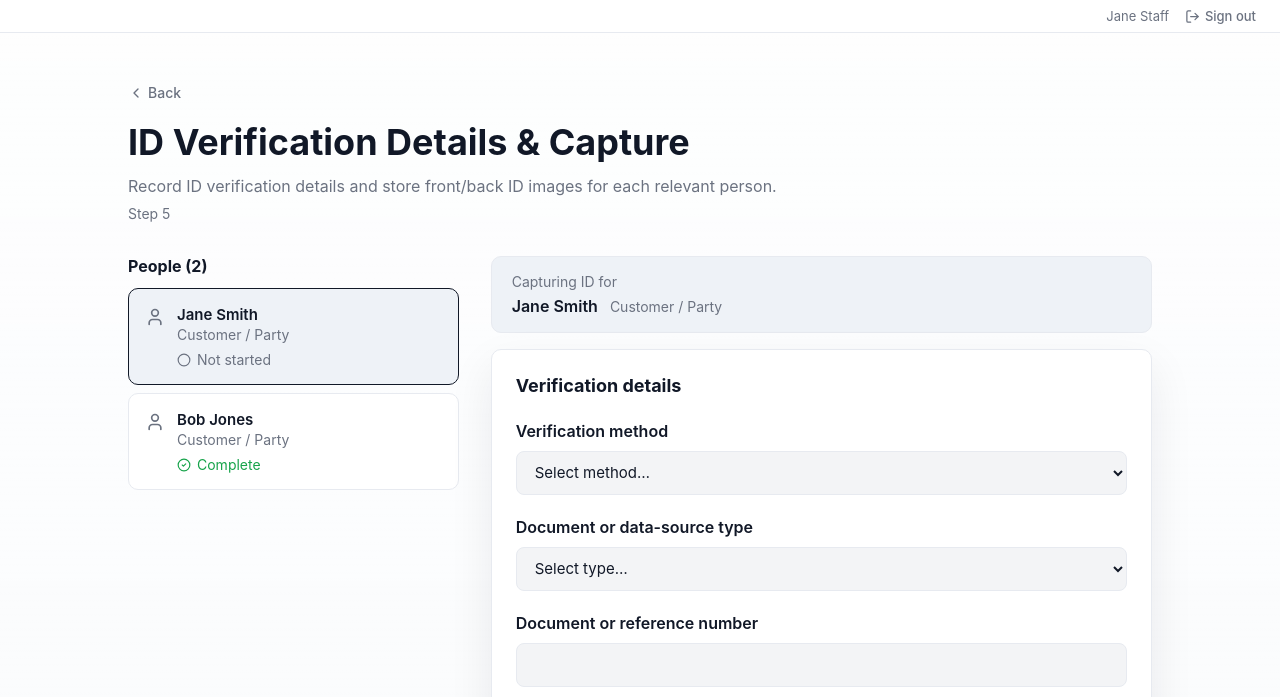
IdVerificationPage › prevents navigation to the next page until every listed person has a complete verification record
This screenshot has width=1280, height=697.
Click the button "Bob Jones Customer / Party Complete" at (215, 420), box [128,393,459,490]
(page scrolled)
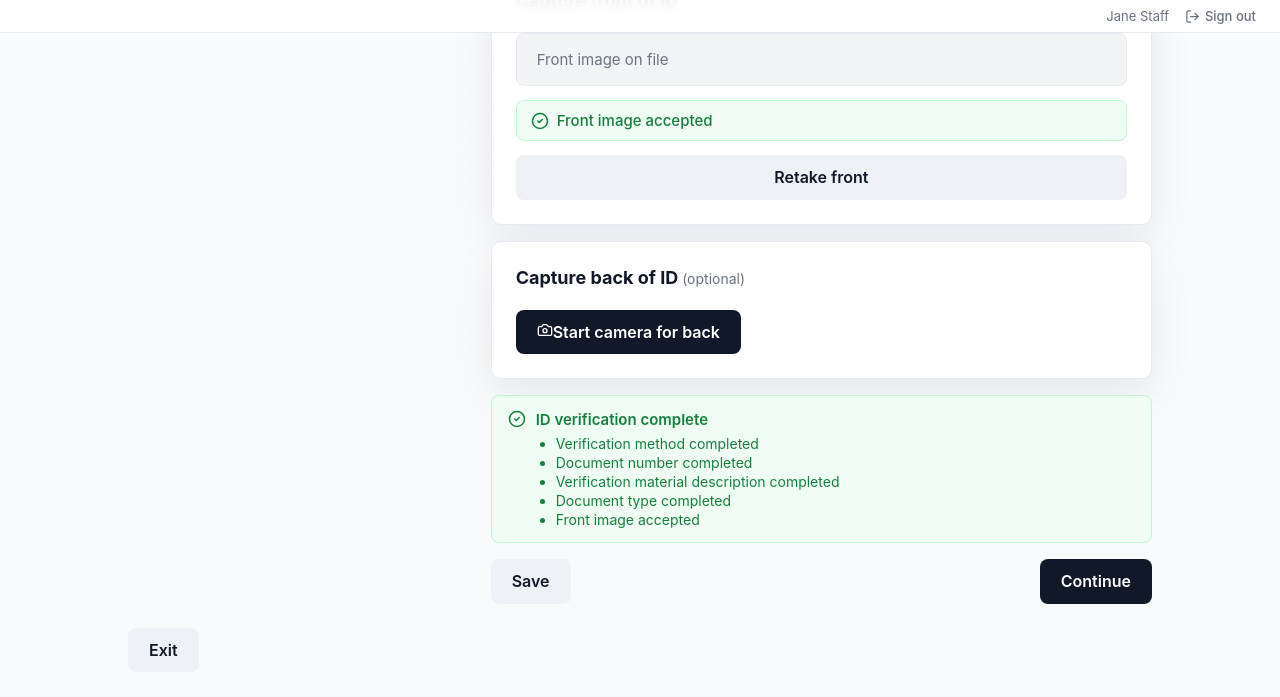
Click the button "Continue" at (1096, 582), box [1040,559,1152,604]
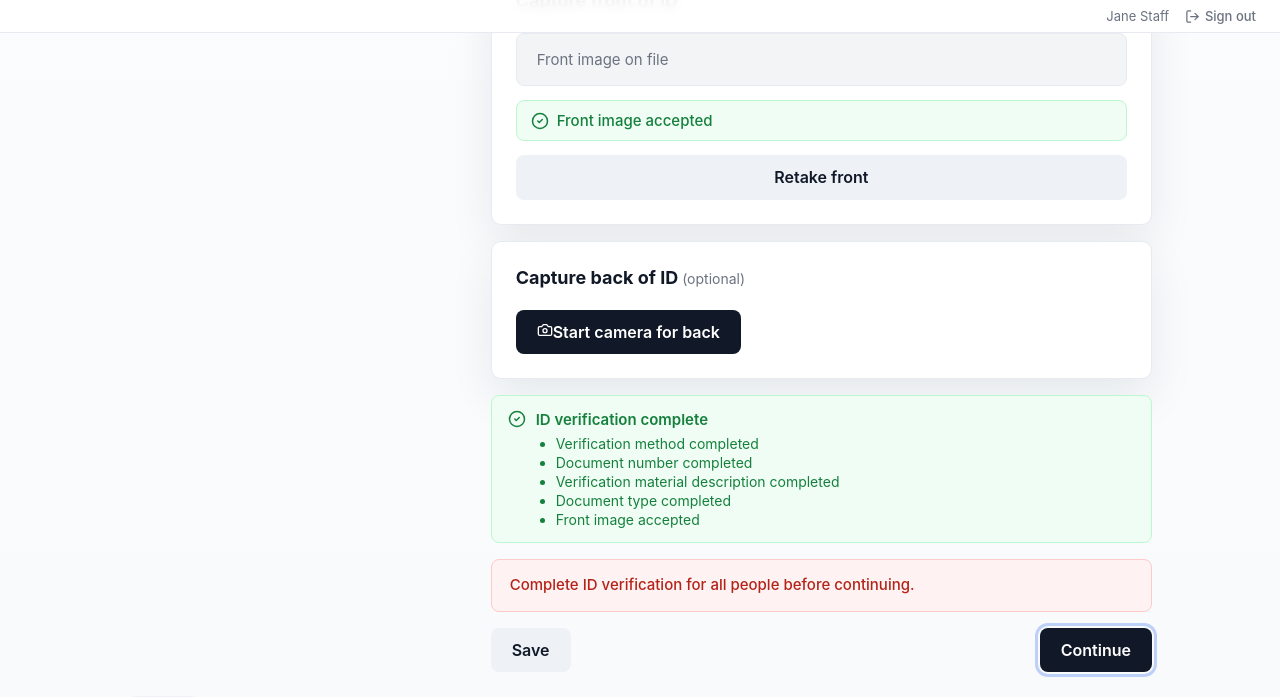
expect the text "Complete ID verification for all people before continuing." is shown: met, box [491,559,1152,612]
